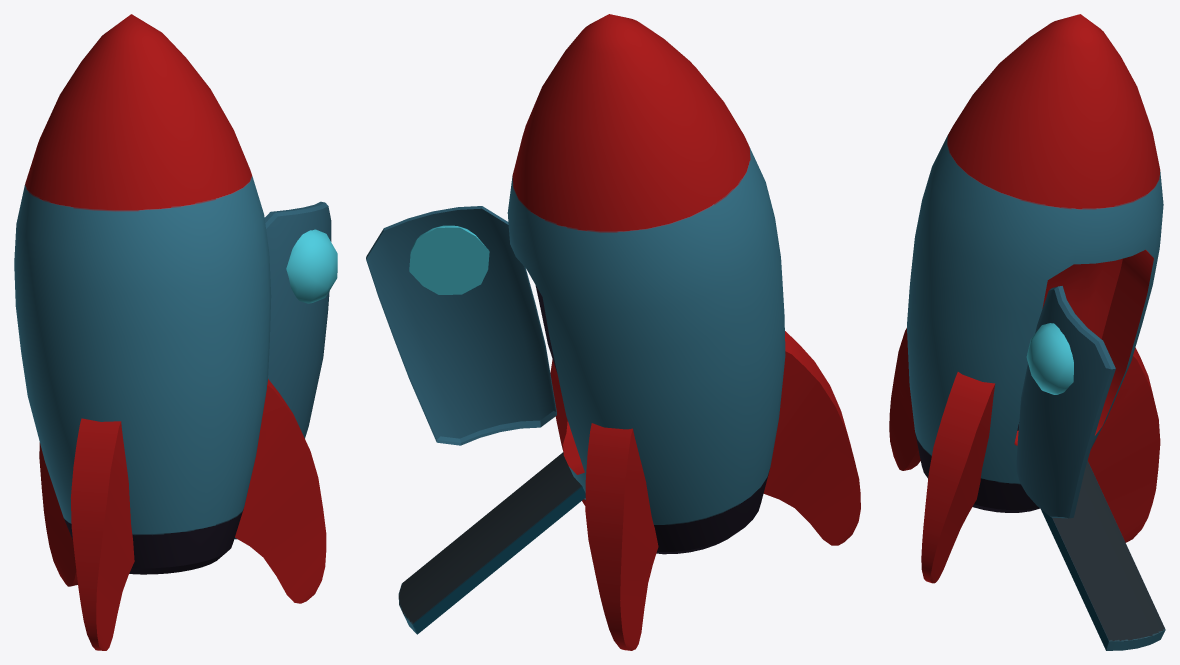
Rendered from rocket open door.fbx.
The picture shows the model from 3 angles, left to right: view 1: azimuth 30°, elevation 25°; view 2: azimuth 150°, elevation 25°; view 3: azimuth 270°, elevation 25°; orthographic projection. The views are drawn at different scales.
Parts seen in each view (by area): view 1: fin back, fin back.001; view 2: fin back, fin back.001; view 3: fin back, fin back.001.
Part boxes in pixels (x1=…): fin back: x1=14, y1=14, x2=326, y2=650; fin back.001: x1=264, y1=201, x2=337, y2=438; fin back: x1=398, y1=14, x2=860, y2=650; fin back.001: x1=366, y1=206, x2=556, y2=445; fin back: x1=889, y1=14, x2=1165, y2=650; fin back.001: x1=1016, y1=286, x2=1115, y2=518.
Bounding box in the file's own units: 1435 × 2260 × 1009.
